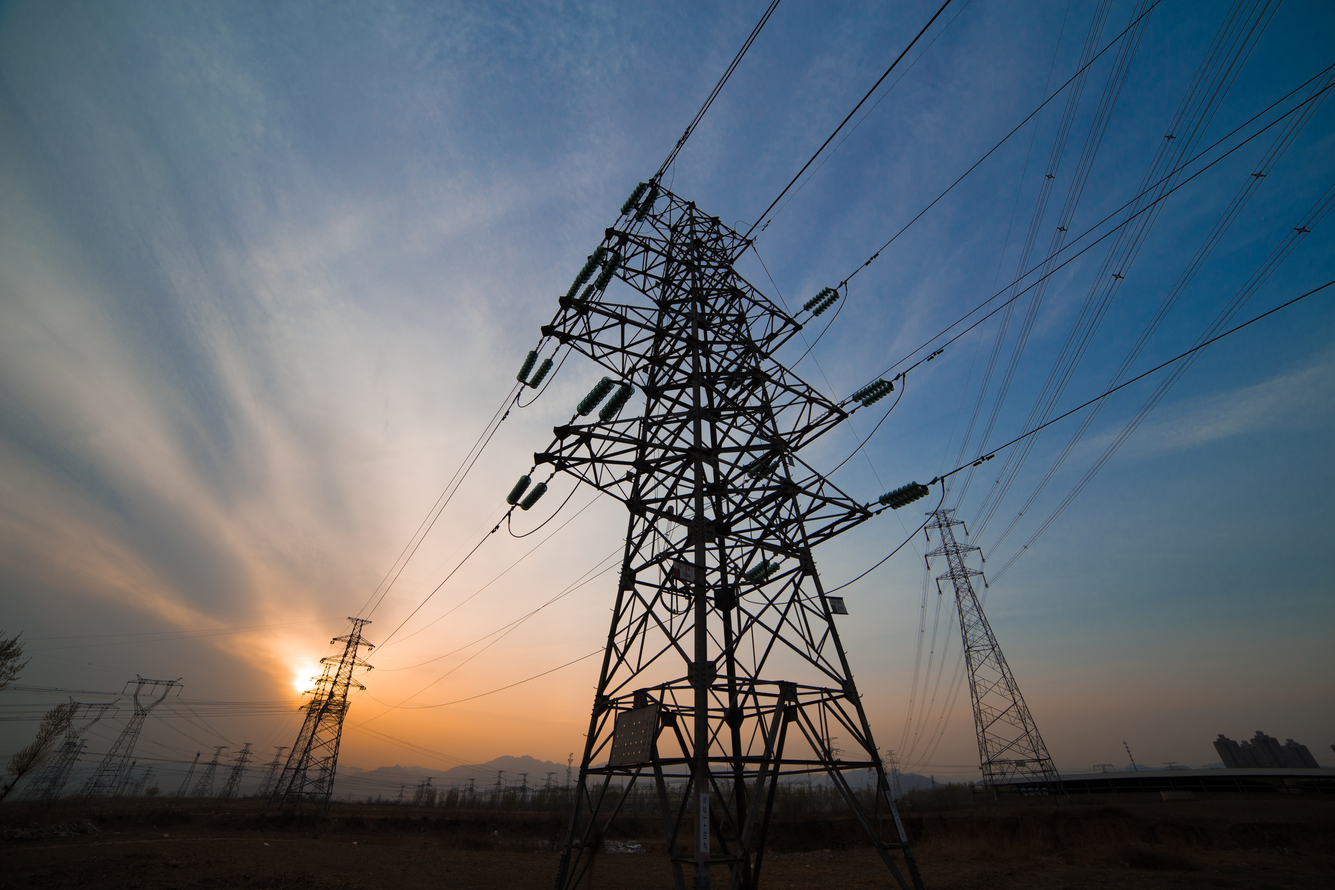insulator: (577, 381, 631, 426), (576, 240, 618, 293), (620, 177, 663, 222), (879, 482, 935, 513), (513, 352, 555, 392), (800, 285, 848, 319), (505, 479, 555, 511), (850, 379, 898, 408)
